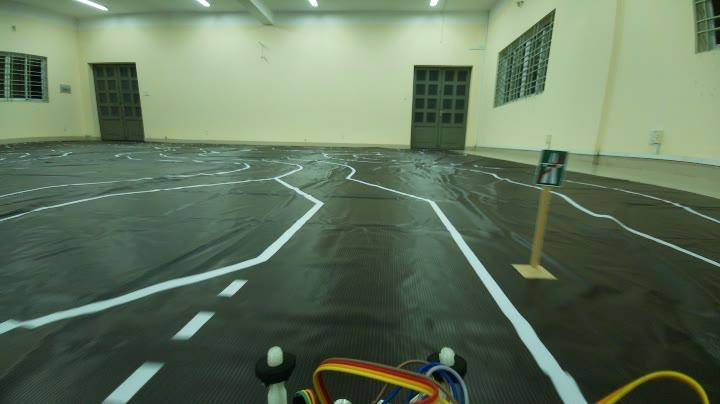highway_exit: (530, 144, 576, 192)
